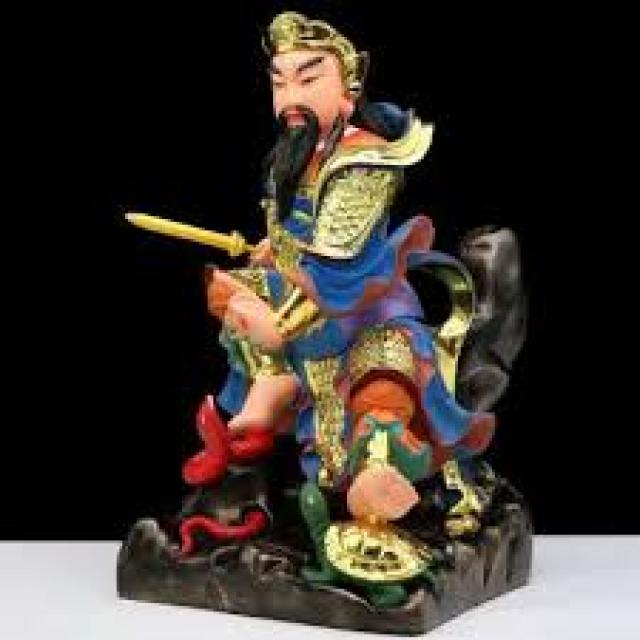Xuan wu: (191, 4, 452, 568)
